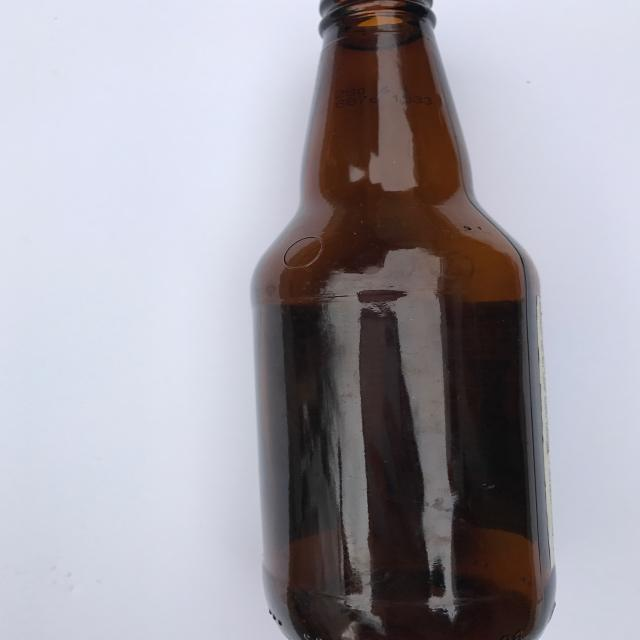glass: (249, 0, 558, 640)
